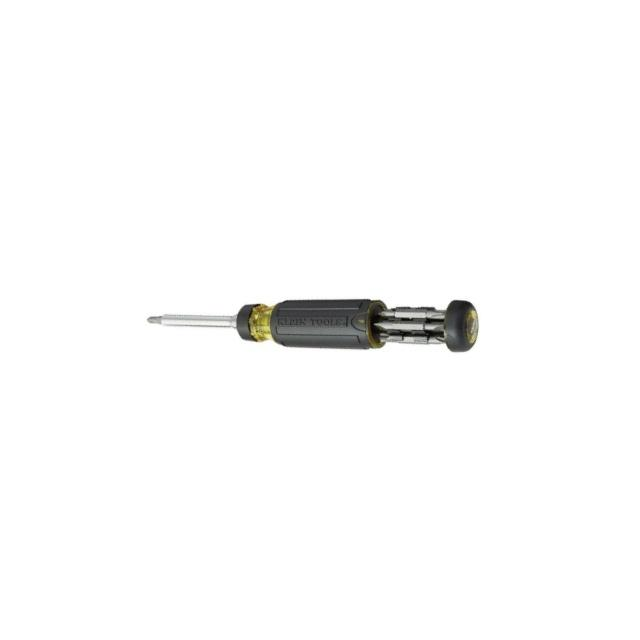screwdriver: (142, 148, 496, 494)
